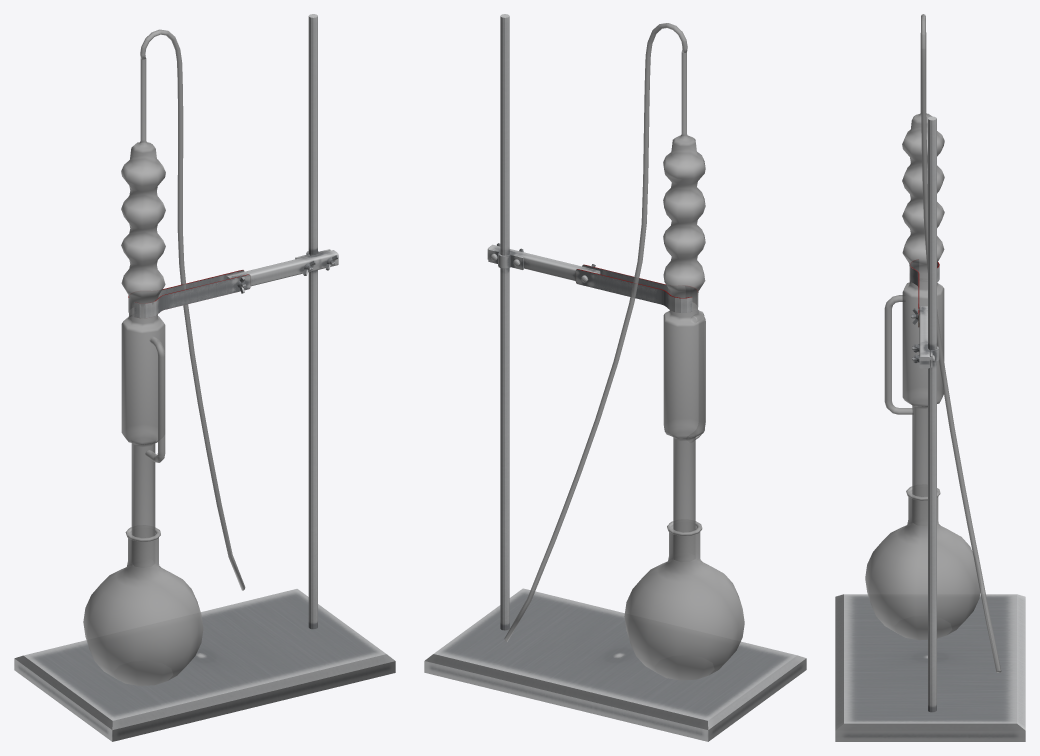
File: ChemJarA.fbx
The picture shows the model from 3 angles, left to right: view 1: azimuth 30°, elevation 25°; view 2: azimuth 150°, elevation 25°; view 3: azimuth 270°, elevation 25°; orthographic projection. The views are drawn at different scales.
Parts seen in each view (by area): view 1: MetalChemStand1, ChemJarA; view 2: MetalChemStand1, ChemJarA; view 3: MetalChemStand1, ChemJarA.
Part boxes in pixels (x1,y1,x2,y2): MetalChemStand1: (14,14,395,741); ChemJarA: (83,29,245,685); MetalChemStand1: (424,14,806,741); ChemJarA: (504,23,744,680); MetalChemStand1: (835,116,1025,741); ChemJarA: (865,14,1001,672).
Bounding box in the file's own units: 30.22 × 66.89 × 18.13.
